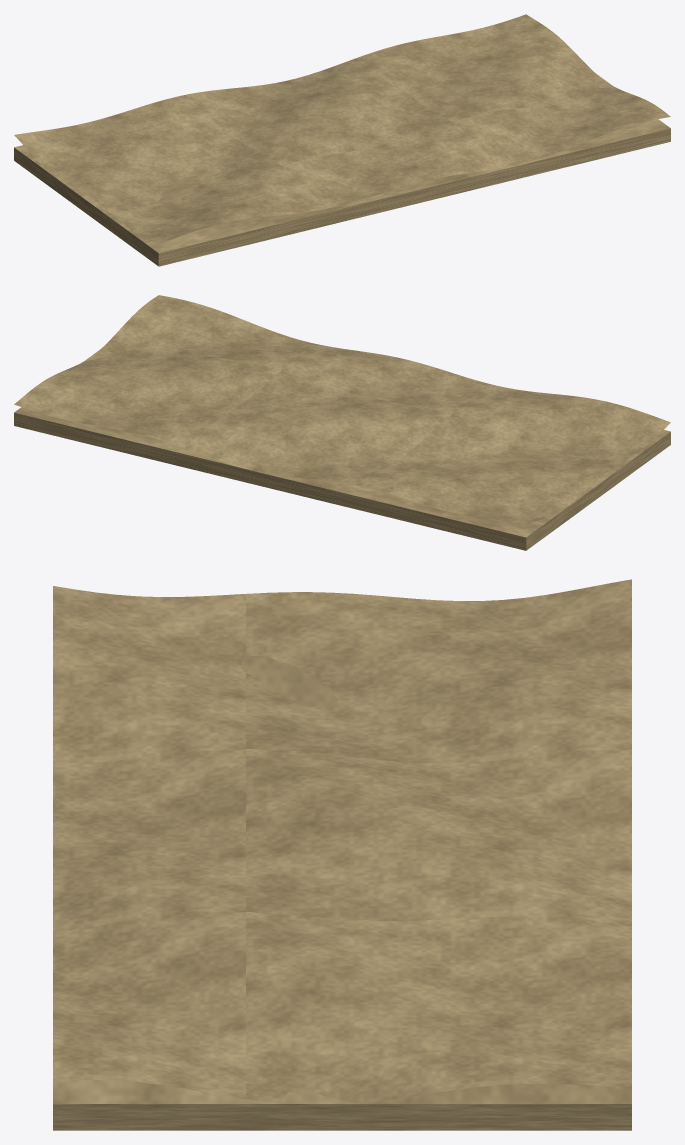
Rendered from sb_v0_sand.glb.
3 views of the same model, one above another, from view 1: azimuth 30°, elevation 25°; view 2: azimuth 150°, elevation 25°; view 3: azimuth 270°, elevation 25° (orthographic). The views are drawn at different scales.
Visible parts, largest first — view 1: sb_v0_sand; view 2: sb_v0_sand; view 3: sb_v0_sand.
Boxes of the visible parts, x1=… form: sb_v0_sand: x1=14, y1=14, x2=670, y2=266; sb_v0_sand: x1=14, y1=295, x2=670, y2=550; sb_v0_sand: x1=53, y1=579, x2=631, y2=1130.
Bounding box in the file's own units: 0.588 × 0.0311 × 0.288.
Materials: 1 (1 with a texture image).
